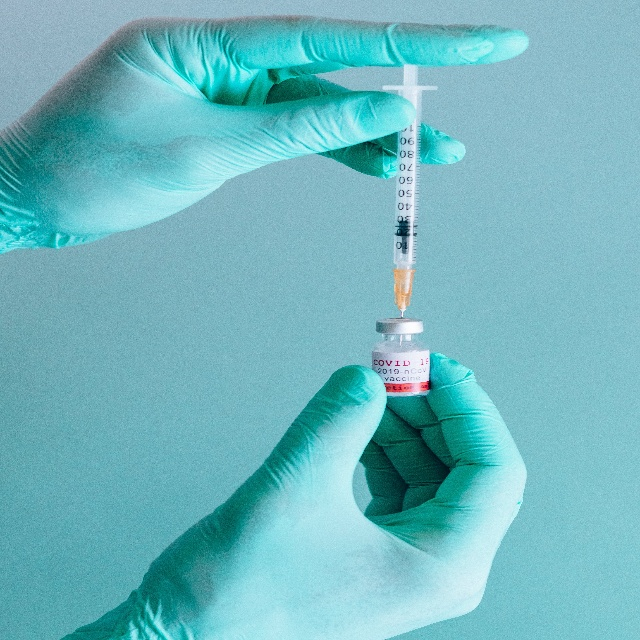Guantes: (58, 352, 528, 640), (0, 13, 530, 259)
